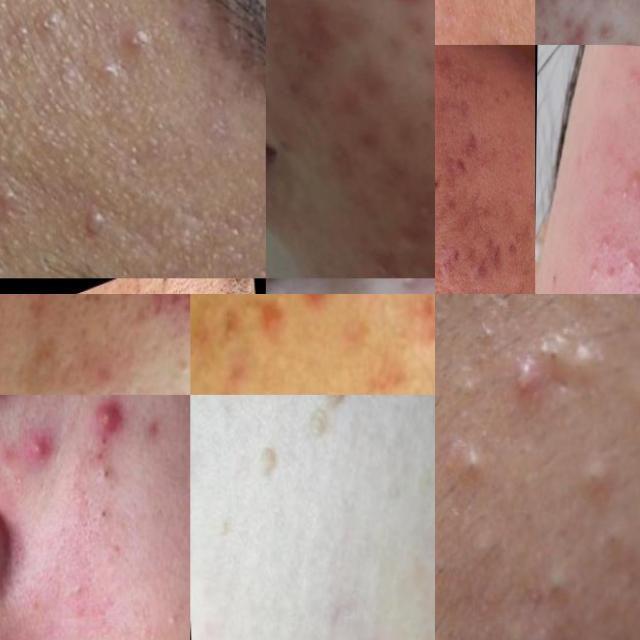acne_scars: (284, 0, 348, 58), (450, 186, 492, 243), (348, 114, 401, 159), (317, 77, 367, 123), (549, 10, 596, 45)
comedone: (561, 442, 638, 517), (455, 507, 513, 587), (0, 157, 39, 241), (532, 565, 581, 613), (73, 204, 116, 253), (617, 356, 640, 435), (457, 430, 482, 500), (36, 5, 77, 47), (564, 334, 596, 386), (4, 19, 36, 67), (560, 294, 615, 321), (70, 571, 102, 614), (84, 497, 118, 535), (160, 594, 190, 634), (86, 455, 120, 484), (511, 622, 560, 640), (610, 150, 628, 178), (623, 249, 639, 279), (615, 182, 633, 207), (598, 228, 612, 250), (630, 73, 640, 100), (586, 258, 598, 279)
flat_wart: (252, 425, 288, 497), (305, 409, 335, 453), (316, 395, 351, 410)
papule: (263, 298, 290, 342), (144, 413, 168, 446), (293, 294, 335, 312), (173, 294, 190, 321), (627, 165, 640, 195), (631, 269, 640, 294)
pustule: (82, 45, 138, 103), (110, 17, 168, 65), (84, 395, 129, 450), (20, 424, 59, 470), (501, 365, 544, 406), (376, 0, 435, 23), (385, 278, 435, 294)
sebo-crystan-conglo: (363, 235, 415, 278), (405, 197, 435, 256), (419, 251, 435, 278)
